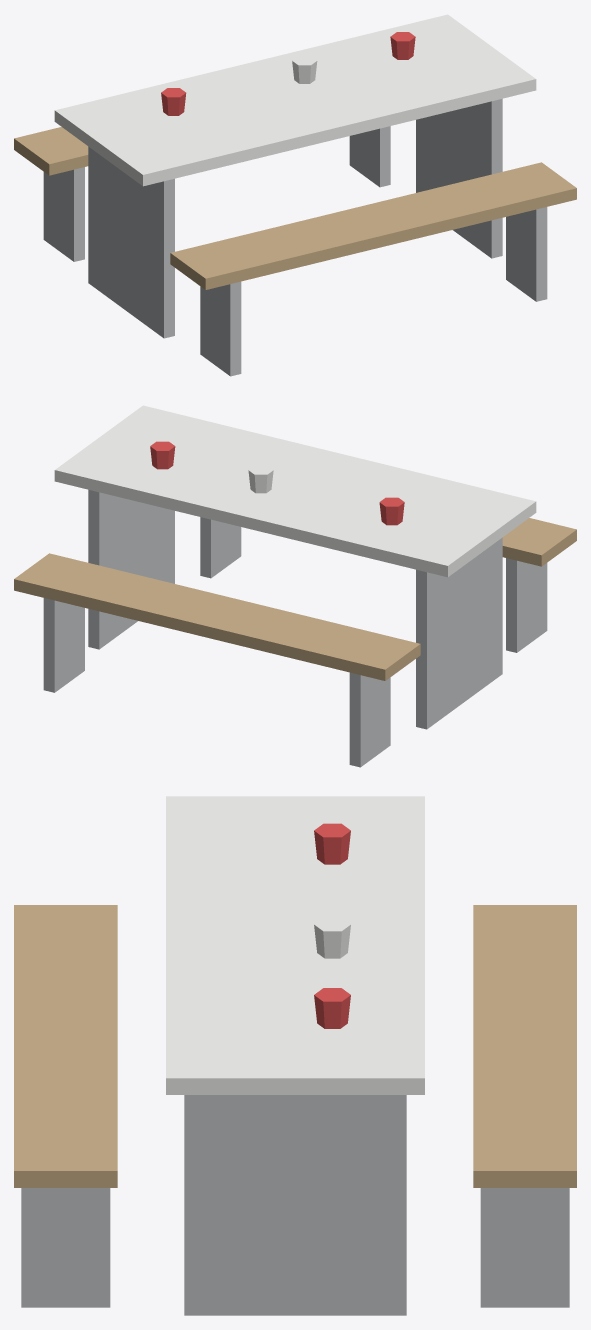
Rendered from VJ_Mesa.fbx.
3 views of the same model, one above another, from view 1: azimuth 30°, elevation 25°; view 2: azimuth 150°, elevation 25°; view 3: azimuth 270°, elevation 25° (orthographic). The views are drawn at different scales.
Visible parts, largest first — view 1: VJ_Mesa; view 2: VJ_Mesa; view 3: VJ_Mesa.
Boxes of the visible parts, x1=… form: VJ_Mesa: x1=14, y1=14, x2=576, y2=376; VJ_Mesa: x1=14, y1=405, x2=576, y2=767; VJ_Mesa: x1=14, y1=796, x2=576, y2=1315.
Size of the model in its own units: 1.8 by 0.85 by 1.52.
